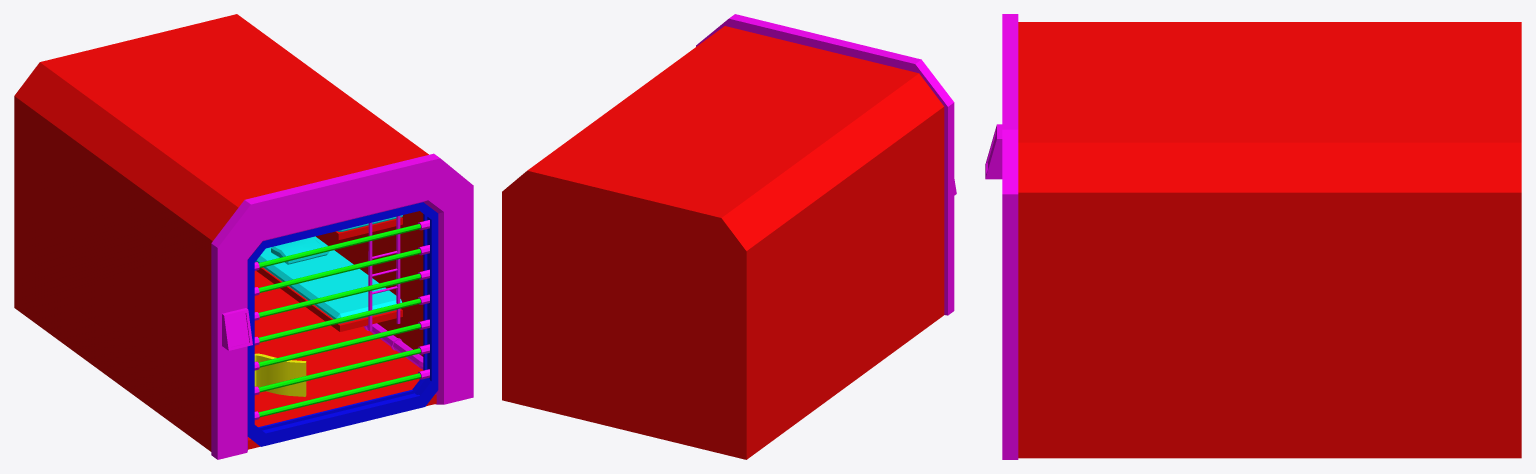
Rendered from prison_cell_new.fbx.
3 renders of one model, left to right at view 1: azimuth 30°, elevation 25°; view 2: azimuth 150°, elevation 25°; view 3: azimuth 270°, elevation 25°, orthographic. The views are drawn at different scales.
Visible parts, largest first — view 1: pCube1, pCube42, pCube43, pCube56, pCube34, pCube44, pCube55, pCylinder105, pCylinder106, pCylinder107, pCylinder109, pCylinder31 (+6 smaller); view 2: pCube1, pCube42; view 3: pCube1, pCube42, pCube44.
Part boxes in pixels (left/top/right/bottom): pCube1: left=14, top=14, right=436, bottom=451; pCube42: left=211, top=153, right=473, bottom=459; pCube43: left=247, top=202, right=438, bottom=446; pCube56: left=255, top=236, right=401, bottom=323; pCube34: left=254, top=353, right=306, bottom=396; pCube44: left=222, top=308, right=252, bottom=350; pCube55: left=256, top=267, right=402, bottom=331; pCylinder105: left=258, top=273, right=420, bottom=317; pCylinder106: left=258, top=298, right=420, bottom=342; pCylinder107: left=258, top=323, right=420, bottom=367; pCylinder109: left=258, top=373, right=420, bottom=417; pCylinder31: left=258, top=224, right=420, bottom=267; pCube1: left=502, top=26, right=944, bottom=459; pCube42: left=696, top=14, right=954, bottom=315; pCube1: left=1018, top=22, right=1521, bottom=458; pCube42: left=1002, top=14, right=1018, bottom=459; pCube44: left=985, top=124, right=1002, bottom=179.
Bounding box in the file's own units: 322 × 300 × 466.
